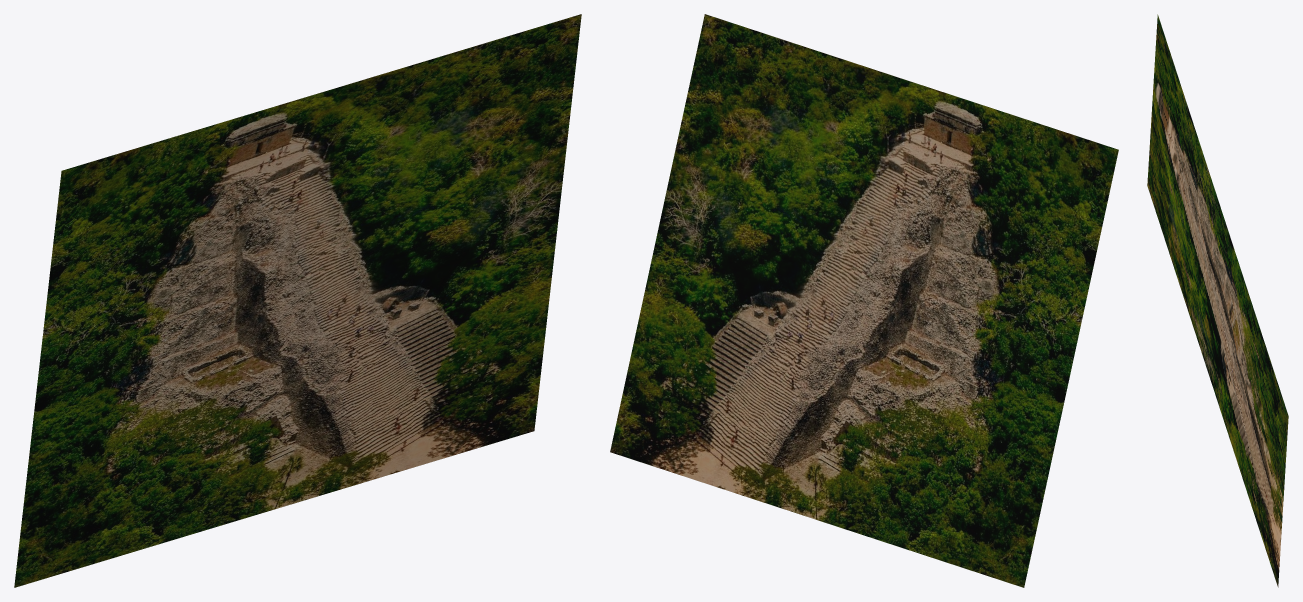
Rendered from Coba.glb.
3 views of the same model, side by side, from view 1: azimuth 30°, elevation 25°; view 2: azimuth 150°, elevation 25°; view 3: azimuth 270°, elevation 25° (orthographic). The views are drawn at different scales.
Parts seen in each view (by area): view 1: Mesh_0.001; view 2: Mesh_0.001; view 3: Mesh_0.001.
Boxes of the visible parts, x1,y1,x2,y2 form: Mesh_0.001: (14, 14, 581, 587); Mesh_0.001: (610, 14, 1118, 587); Mesh_0.001: (1147, 14, 1288, 587).
Size of the model in its own units: 21.29 by 19.36 by 5.93.
Materials: 1 (1 with a texture image).
